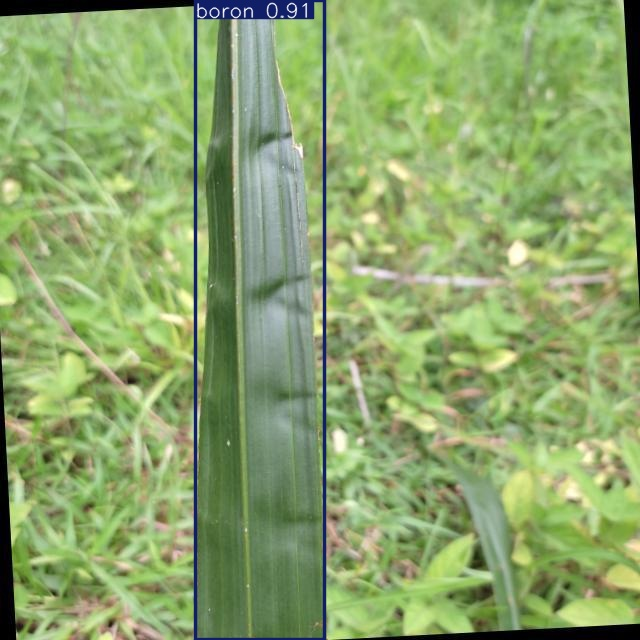nitrogen: (195, 0, 324, 640)
